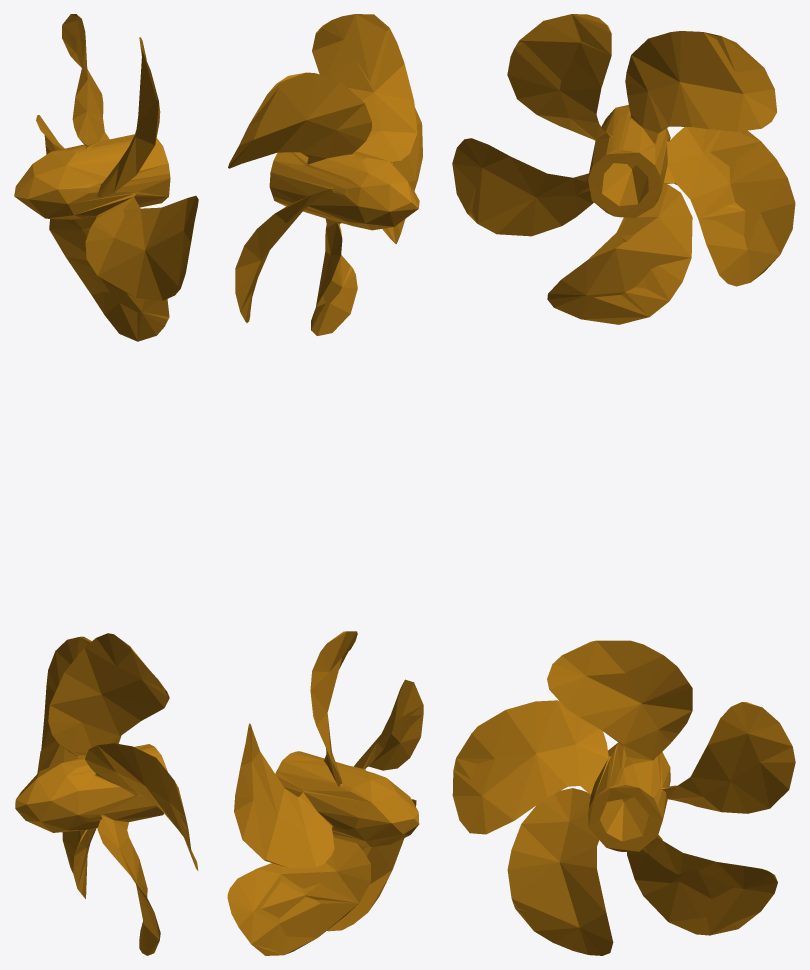
File: propeller_gold.obj
3 views of the same model, side by side, from view 1: azimuth 30°, elevation 25°; view 2: azimuth 150°, elevation 25°; view 3: azimuth 270°, elevation 25° (orthographic). The views are drawn at different scales.
Size of the model in its own units: 1.34 by 8.46 by 2.8.
